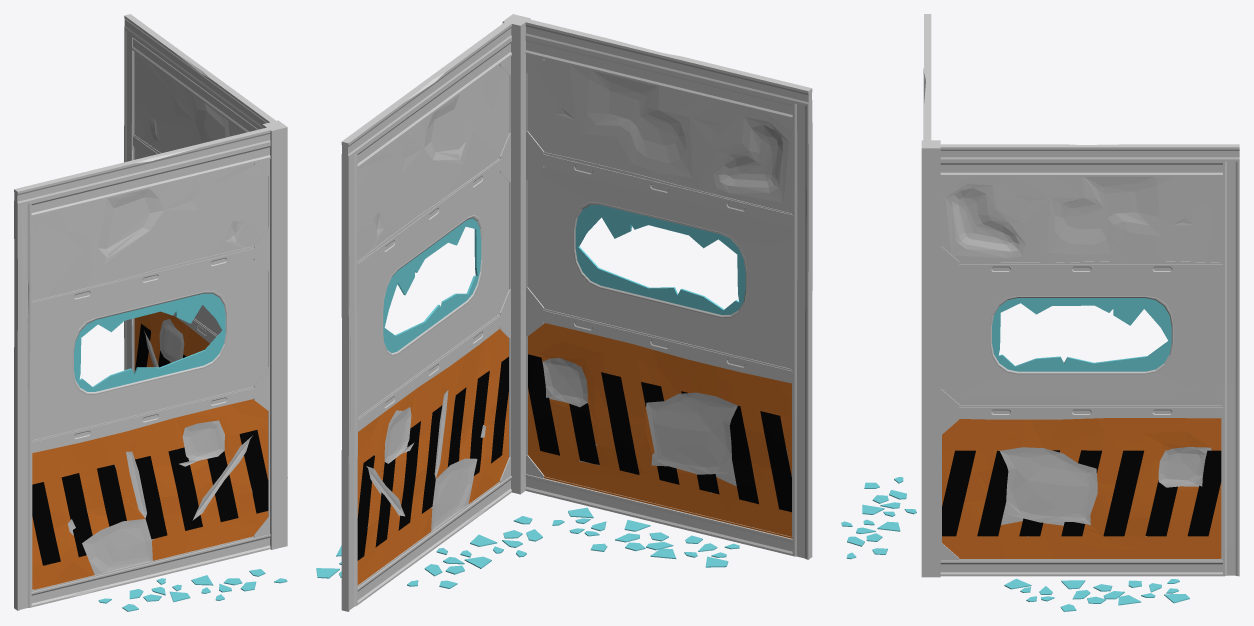
File: SM_Wall_Angle_Broken_01.glb
The picture shows the model from 3 angles, left to right: view 1: azimuth 30°, elevation 25°; view 2: azimuth 150°, elevation 25°; view 3: azimuth 270°, elevation 25°; orthographic projection. The views are drawn at different scales.
Parts seen in each view (by area): view 1: SM_Wall_Angle_Broken_01; view 2: SM_Wall_Angle_Broken_01; view 3: SM_Wall_Angle_Broken_01.
Boxes of the visible parts, left/top/right/bottom form: SM_Wall_Angle_Broken_01: left=14, top=14, right=287, bottom=611; SM_Wall_Angle_Broken_01: left=316, top=14, right=812, bottom=611; SM_Wall_Angle_Broken_01: left=841, top=14, right=1239, bottom=611.
Bounding box in the file's own units: 2.54 × 3 × 2.52.
